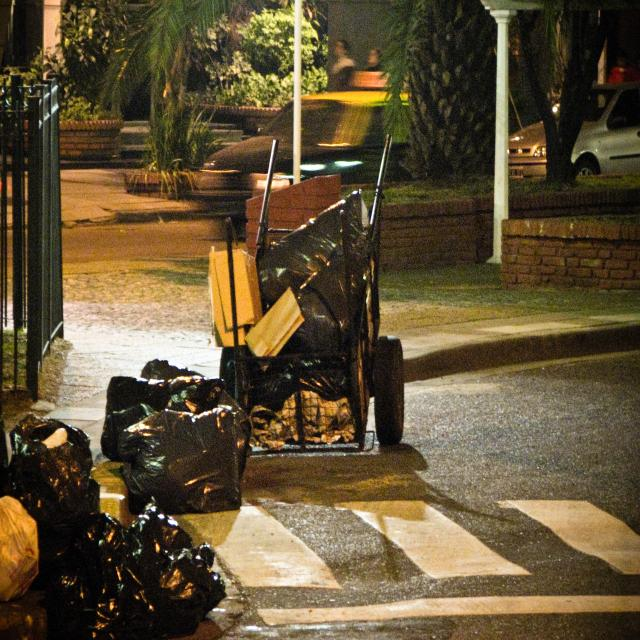trash: (122, 380, 245, 508), (27, 433, 91, 518)
